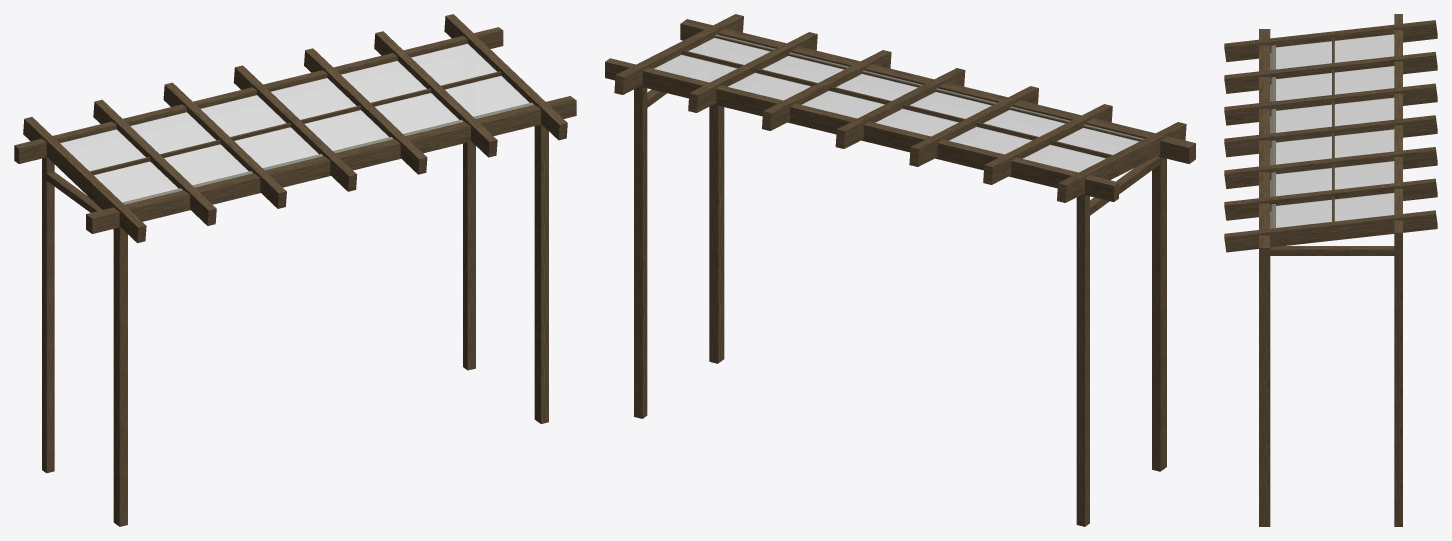
The model's file is 3900-1250_brownebony.fbx.
3 renders of one model, left to right at view 1: azimuth 30°, elevation 25°; view 2: azimuth 150°, elevation 25°; view 3: azimuth 270°, elevation 25°, orthographic. The views are drawn at different scales.
Parts seen in each view (by area): view 1: 3900-1250_brownebony; view 2: 3900-1250_brownebony; view 3: 3900-1250_brownebony.
Part boxes in pixels (box(x1,y1,x2,y2)): 3900-1250_brownebony: box(14, 14, 576, 526); 3900-1250_brownebony: box(605, 14, 1195, 526); 3900-1250_brownebony: box(1224, 14, 1437, 526).
Size of the model in its own units: 448 by 299 by 185.
3 materials, 2 textured.
